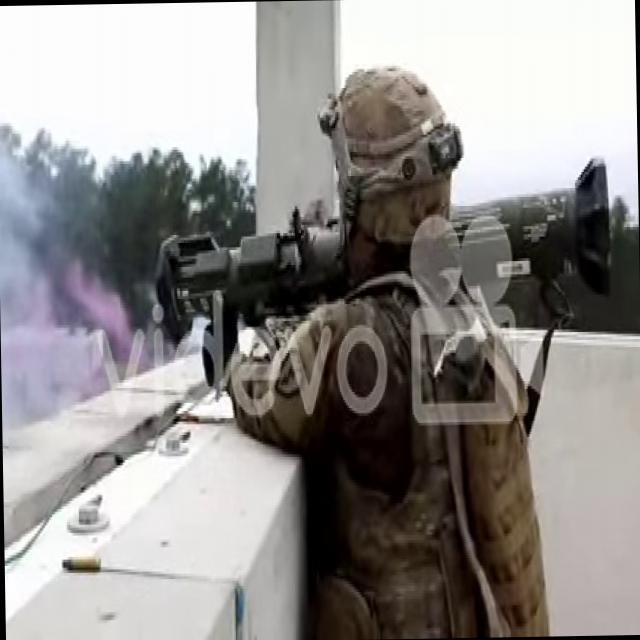rocket: (150, 155, 614, 334)
